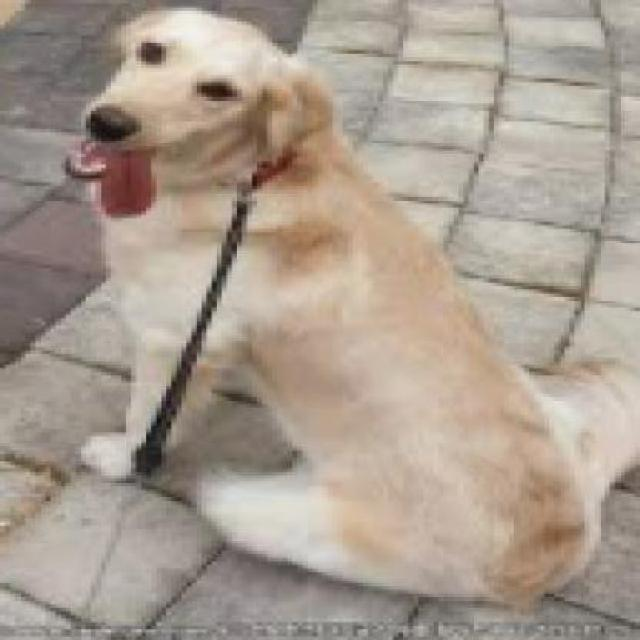Dog: (68, 5, 610, 609)
